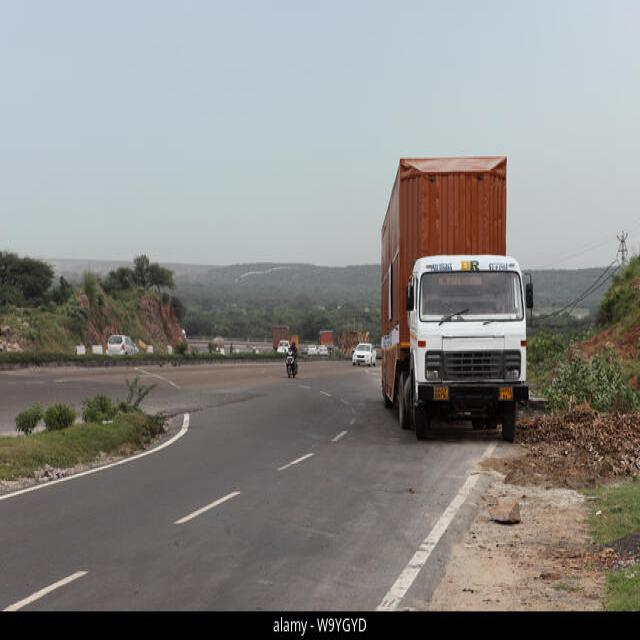truck: (381, 158, 532, 439)
